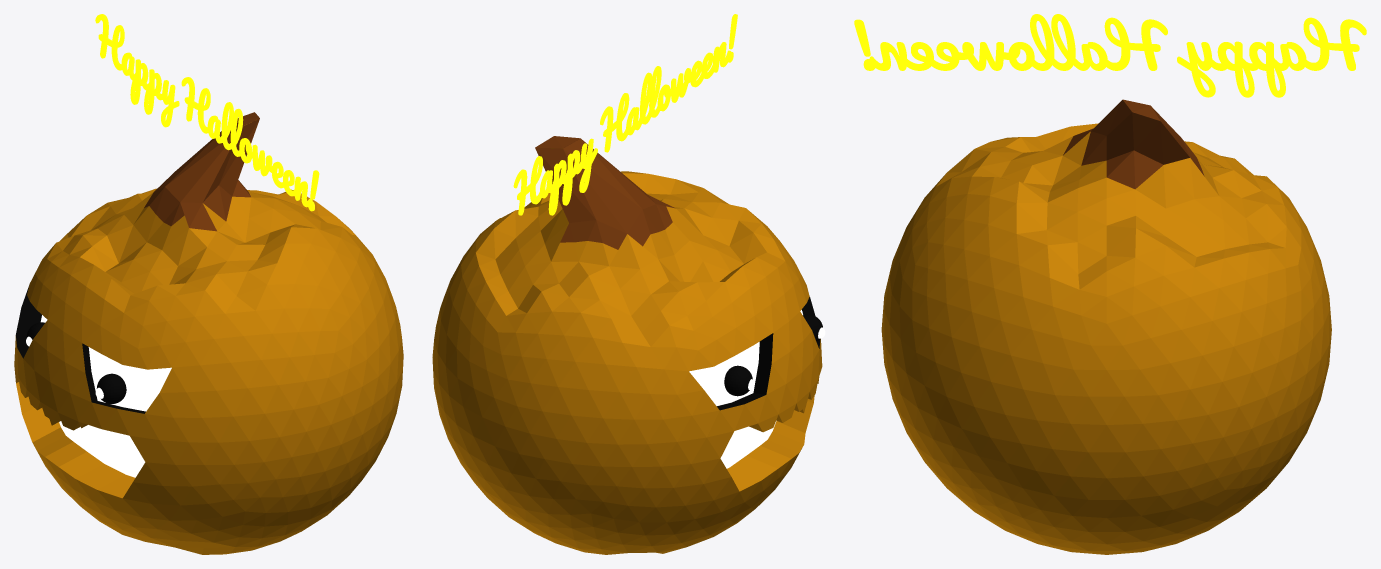
Rendered from pumpkin.glb.
3 renders of one model, left to right at view 1: azimuth 30°, elevation 25°; view 2: azimuth 150°, elevation 25°; view 3: azimuth 270°, elevation 25°, orthographic. The views are drawn at different scales.
Parts seen in each view (by area): view 1: Icosphere, Text, Sphere.001; view 2: Icosphere, Text, Sphere; view 3: Icosphere, Text.
Part boxes in pixels (<box>): Icosphere: <box>14,112,403,554</box>; Text: <box>95,14,319,211</box>; Sphere.001: <box>96,373,126,403</box>; Icosphere: <box>432,136,822,554</box>; Text: <box>513,14,737,215</box>; Sphere: <box>724,365,752,396</box>; Icosphere: <box>881,99,1331,554</box>; Text: <box>854,14,1366,97</box>.
Bounding box in the file's own units: 2 × 2.51 × 2.28.
